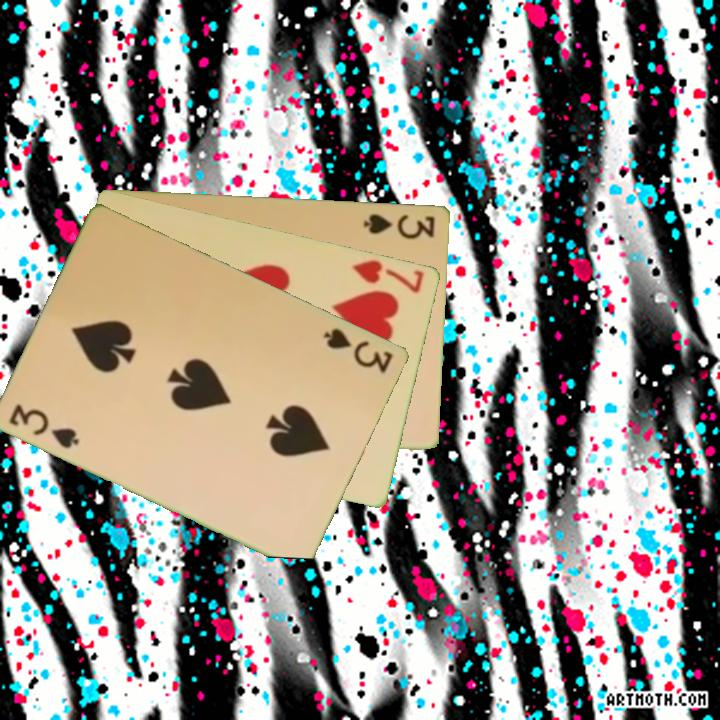3s: (6, 399, 83, 451), (320, 324, 396, 376), (360, 210, 438, 241)
7h: (349, 256, 427, 296)
